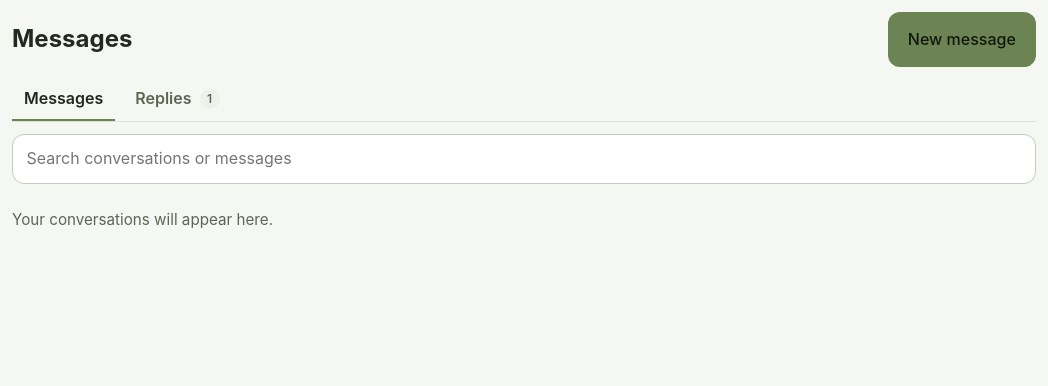
Test: MessagesPage Markdown previews › renders Markdown in reply and parent post previews
Click the tab "Replies 1".
click(177, 100)  # box [123,79,232,121]
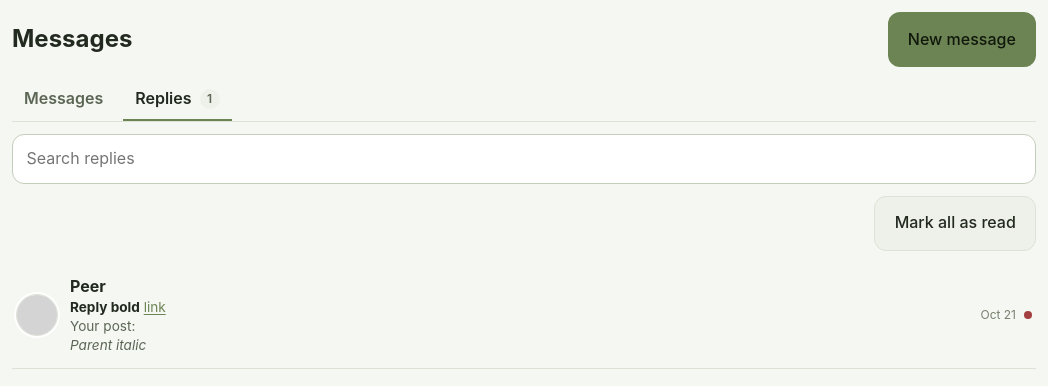
expect the text "Reply bold" is shown: met, box [70,299,140,315]
expect the link with class "markdown-external-link" reads "link": met, box [144,299,166,315]
expect the text "Parent italic" is shown: met, box [70,337,146,353]
